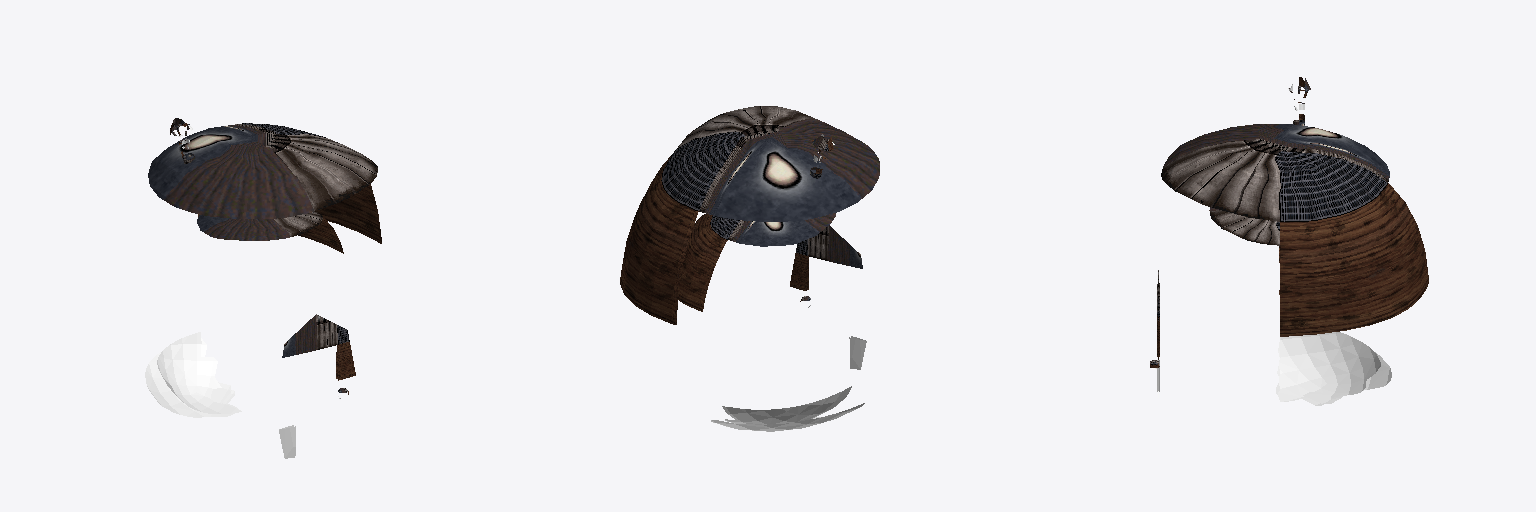
3 renders of one model, left to right at view 1: azimuth 30°, elevation 25°; view 2: azimuth 150°, elevation 25°; view 3: azimuth 270°, elevation 25°, orthographic.
Size of the model in its own units: 12.29 by 14.32 by 12.54.
7 materials, 1 textured.